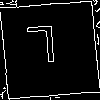L: (25, 25, 60, 74)
